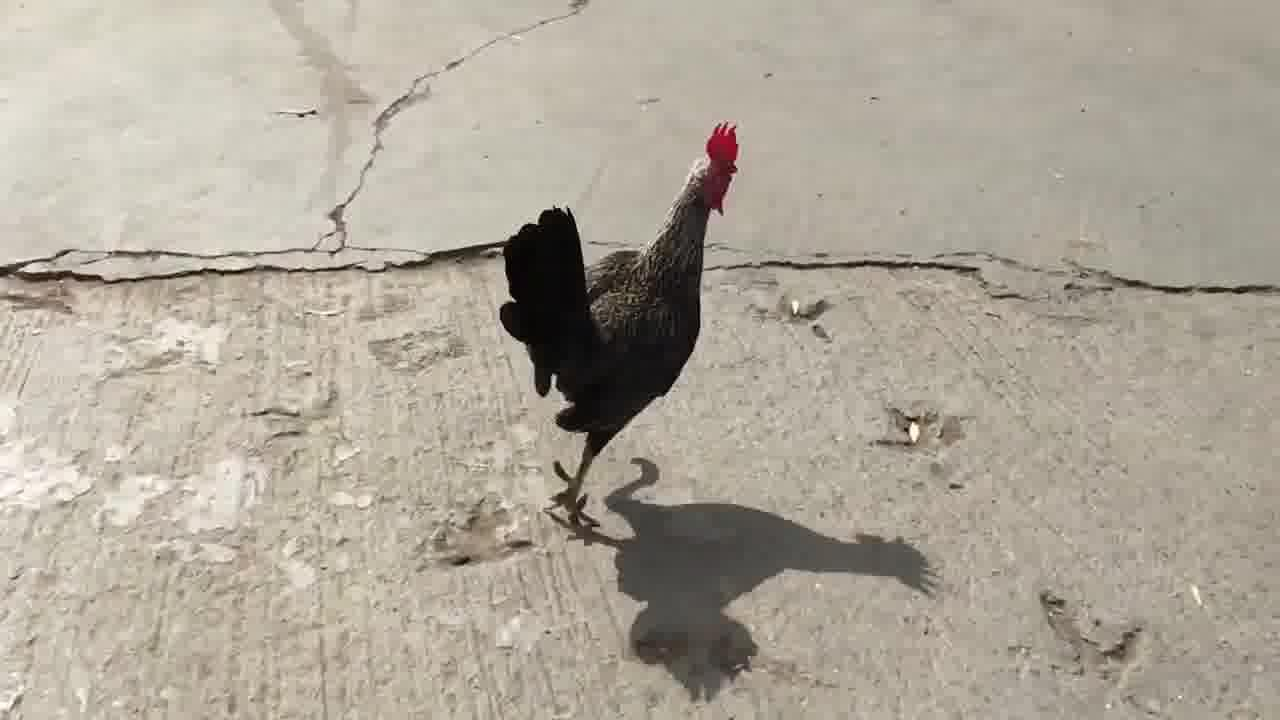Normal: (502, 118, 742, 538)
